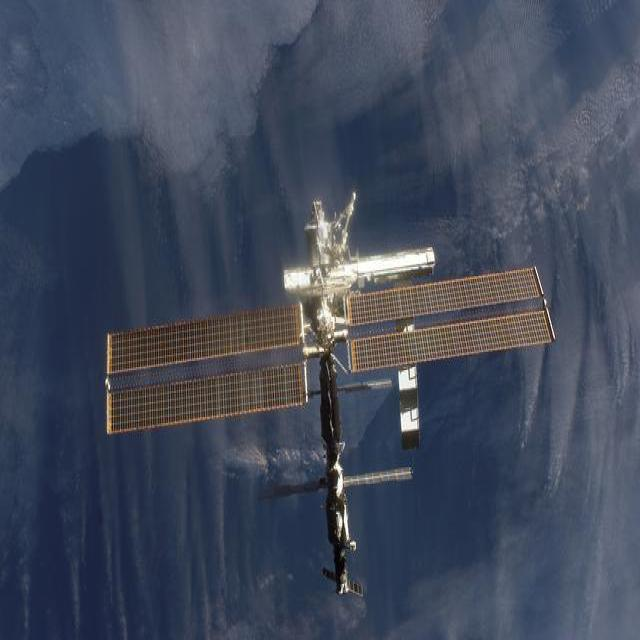medium_debris: (100, 201, 560, 602)
